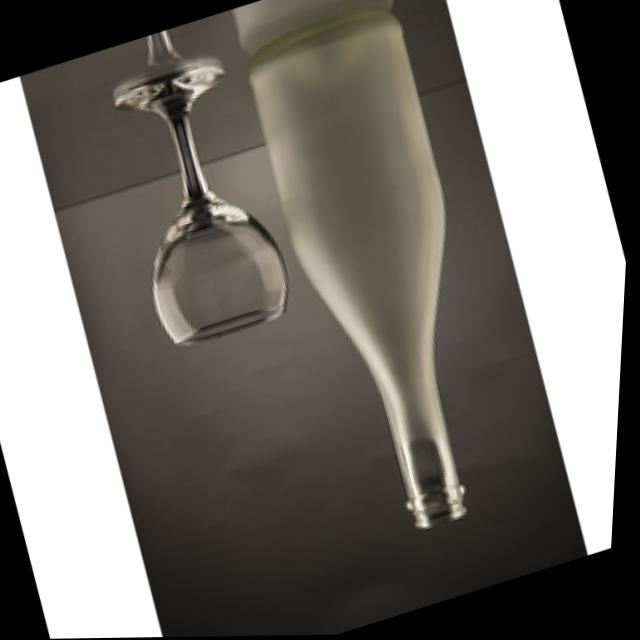glass_beverage_bottles: (227, 3, 554, 550), (85, 56, 316, 365)
